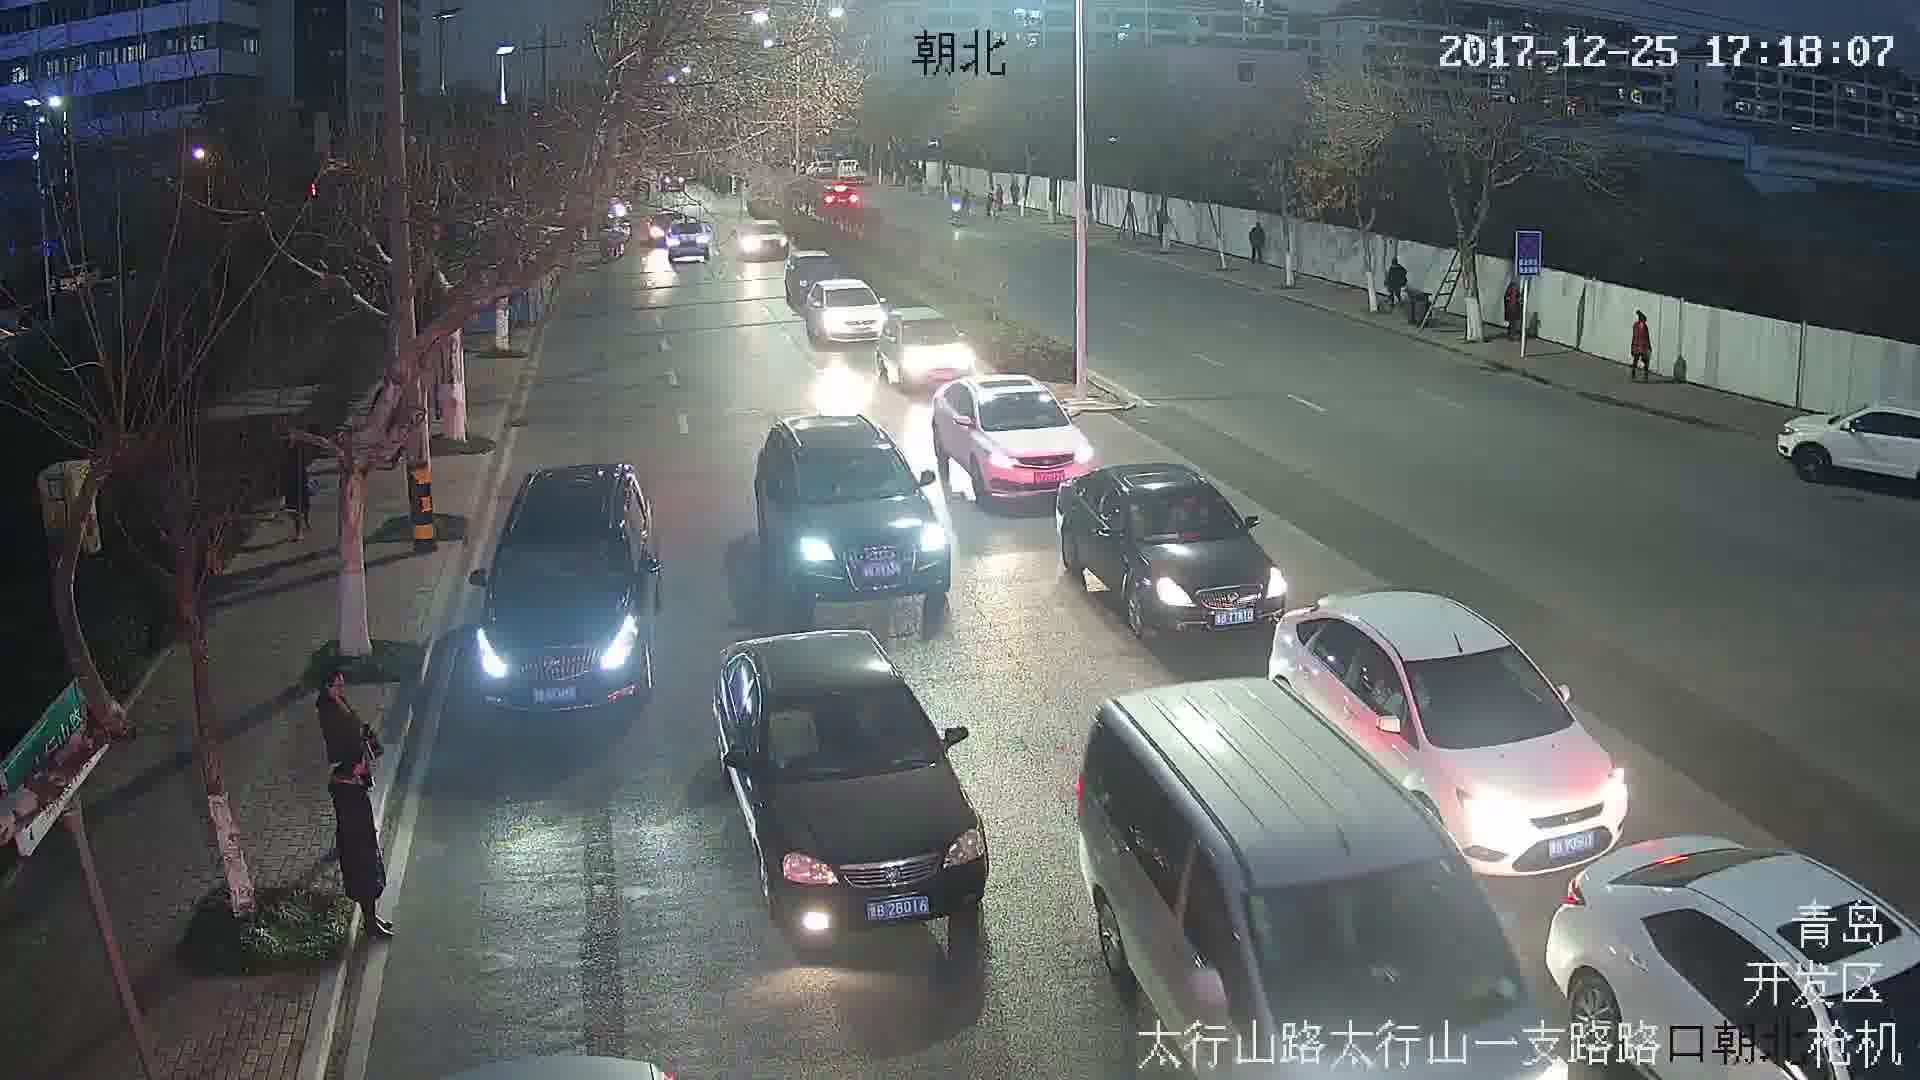car: (1277, 592, 1613, 857), (713, 627, 991, 938), (473, 463, 666, 712), (759, 409, 949, 607), (1067, 473, 1289, 632), (930, 374, 1096, 500), (805, 275, 877, 348)
person: (330, 764, 410, 939), (318, 675, 368, 757), (1382, 259, 1409, 310), (1630, 312, 1648, 375), (1249, 223, 1264, 270)
